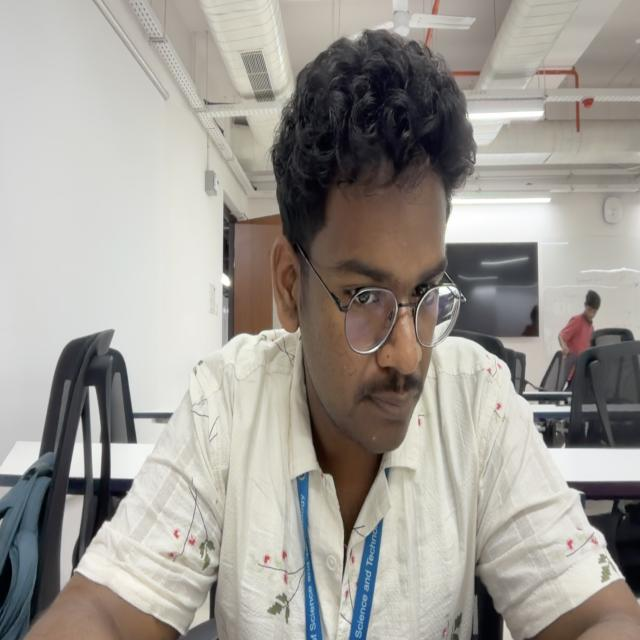sai: (271, 30, 471, 451)
